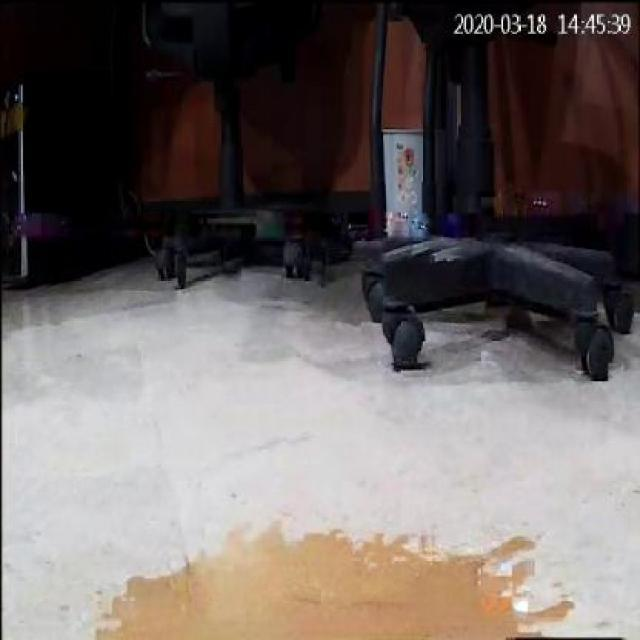spill: (93, 518, 581, 637)
